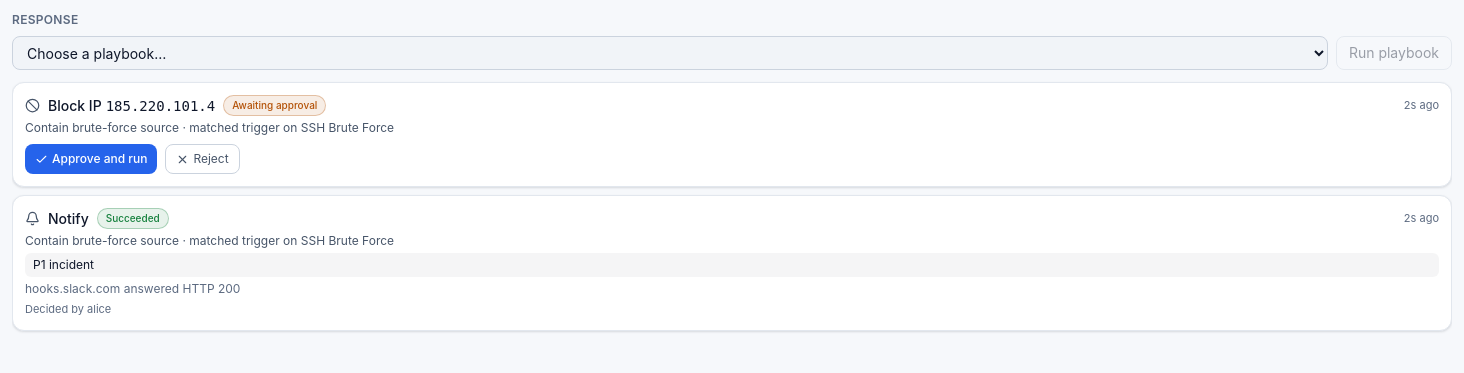
IncidentResponse › runs a playbook against the incident
Select "Contain brute-force source" in the dropdown named "Playbook to run": (670, 53) top-left (12, 36), bottom-right (1328, 70)
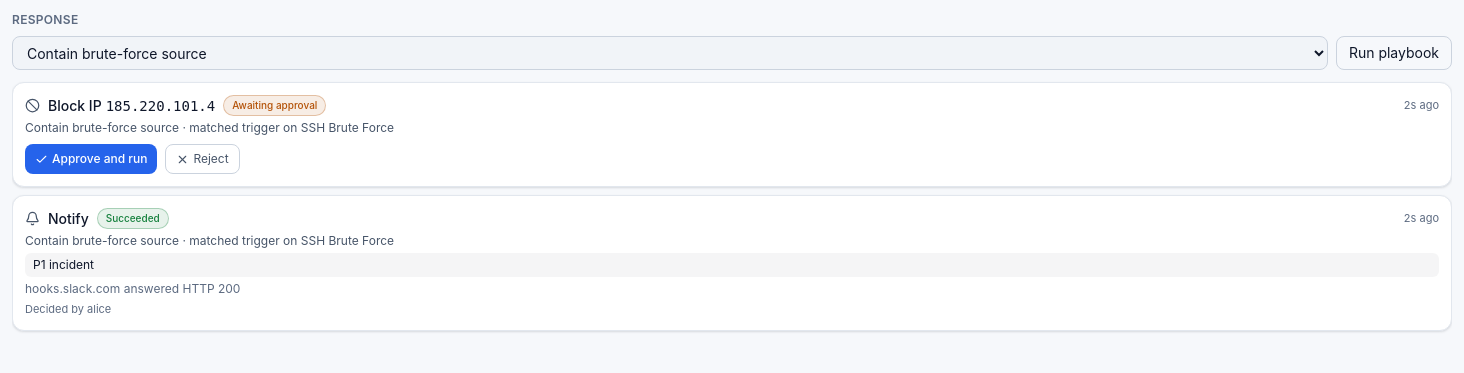
Click the button "Run playbook": (1394, 53) top-left (1336, 36), bottom-right (1452, 70)
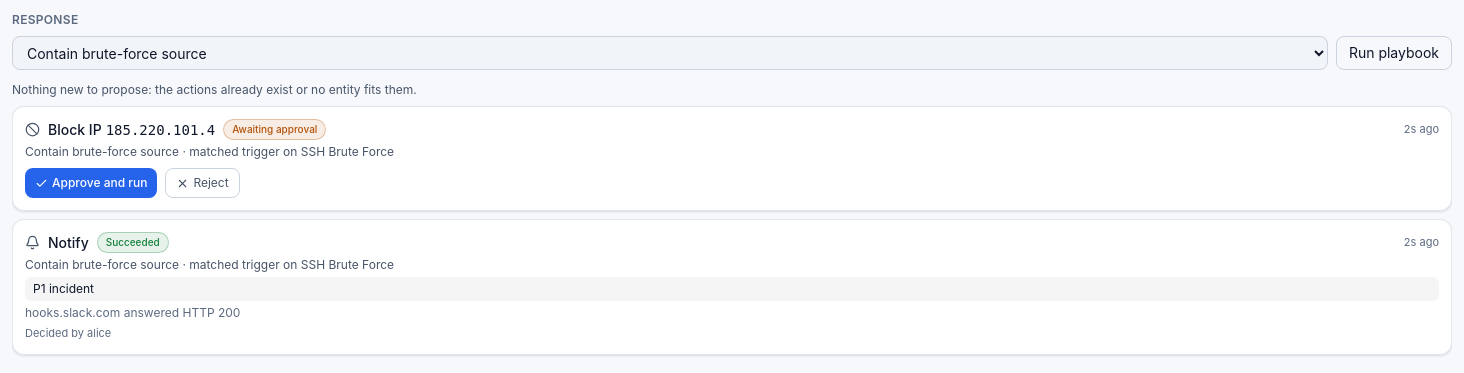
Expected: the message shows "Nothing new to propose", top-left (12, 82), bottom-right (417, 97)
